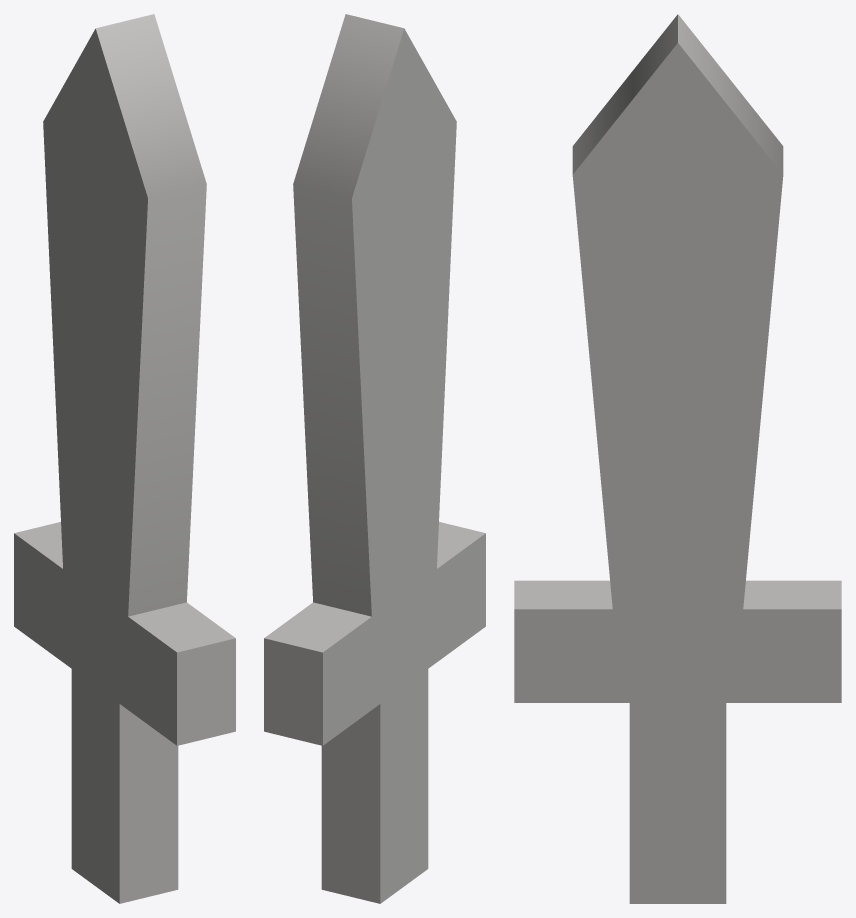
Rendered from Sword.fbx.
The picture shows the model from 3 angles, left to right: view 1: azimuth 30°, elevation 25°; view 2: azimuth 150°, elevation 25°; view 3: azimuth 270°, elevation 25°; orthographic projection.
Parts seen in each view (by area): view 1: Sword; view 2: Sword; view 3: Sword.
Boxes of the visible parts, x1,y1,x2,y2 form: Sword: (14,14,235,903); Sword: (264,14,485,903); Sword: (514,14,841,903).
Size of the model in its own units: 2.5 by 34.89 by 12.02.
